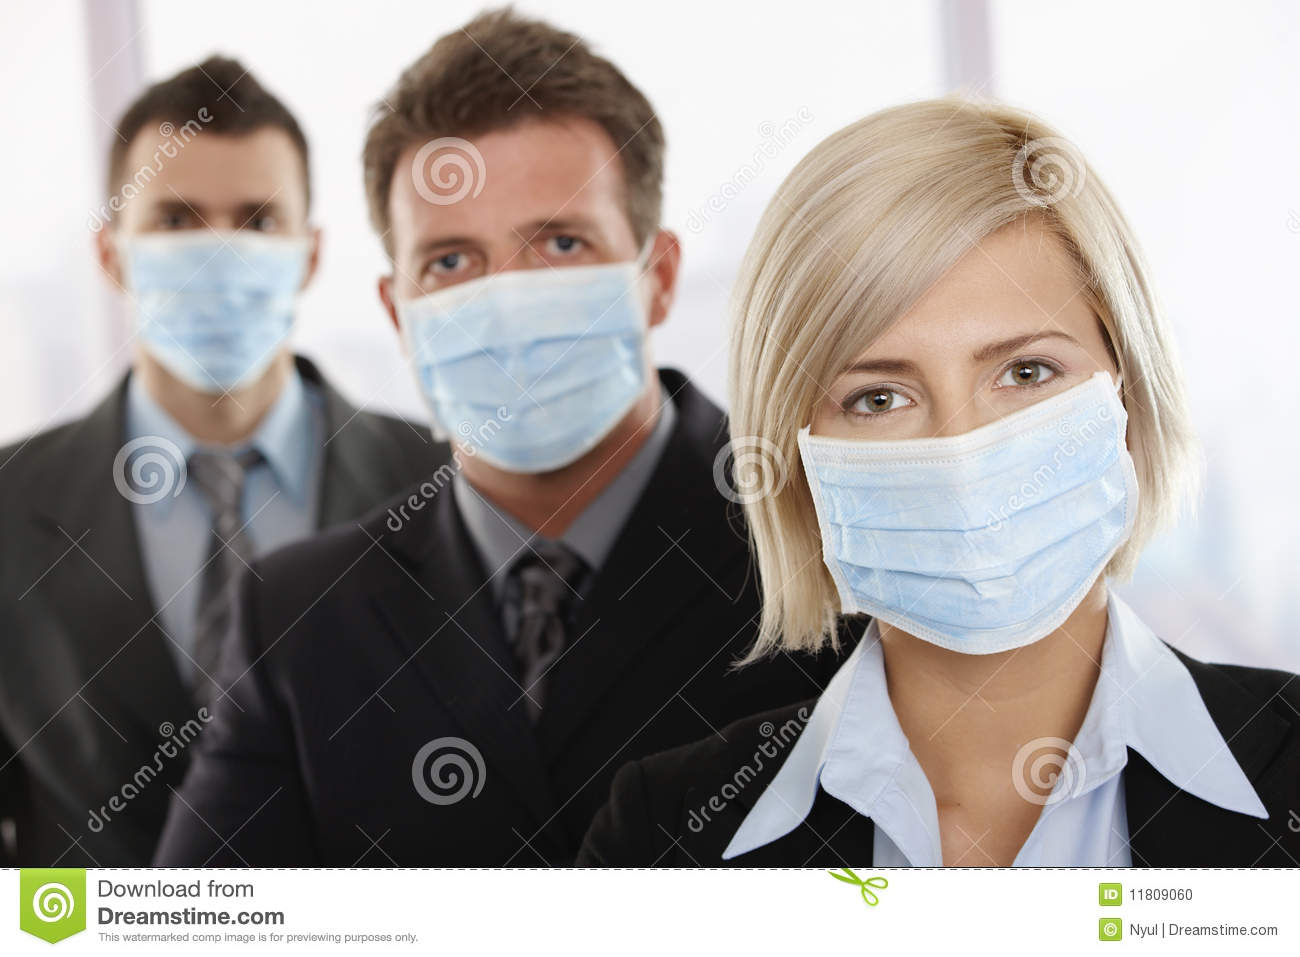mask: (807, 377, 1144, 661), (402, 264, 651, 469)
